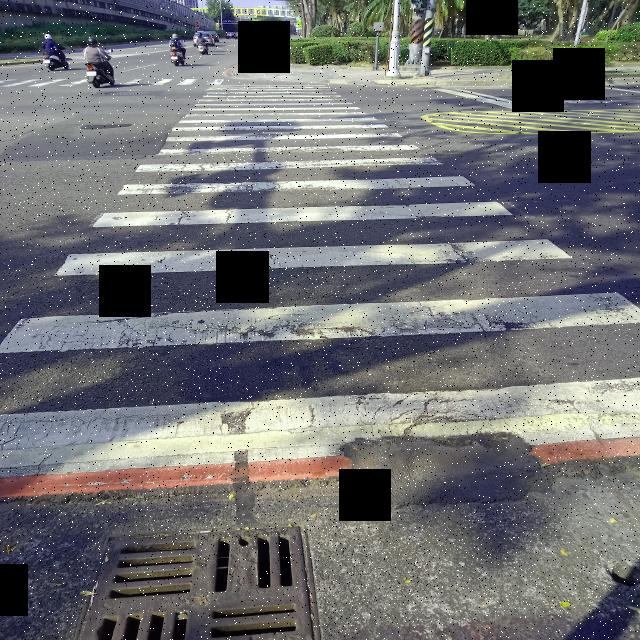person: (83, 38, 110, 62), (42, 34, 63, 54), (168, 34, 185, 55)
zebra crossing: (0, 89, 636, 476), (6, 78, 222, 87)
